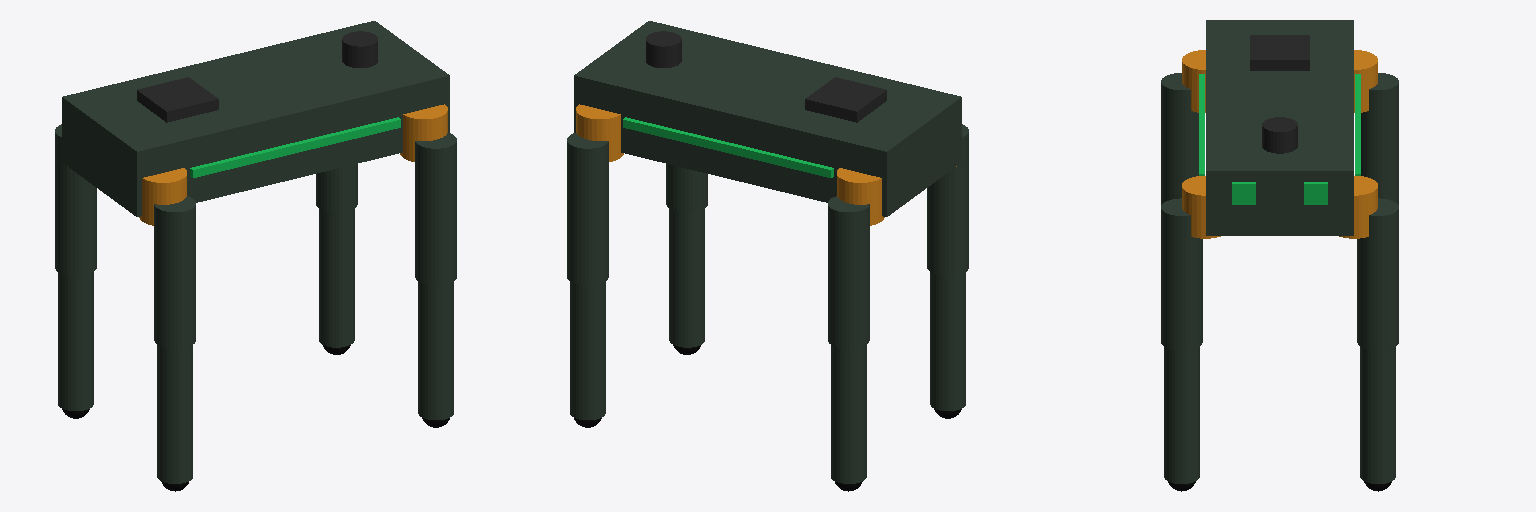
The robot description file, URDF, robot "cleanwalker":
<?xml version="1.0" encoding="UTF-8"?>
<!--
  CleanWalker Robotics — URDF Robot Model v1
  ============================================
  12-DOF quadruped (3 joints per leg: hip_yaw, hip_pitch, knee_pitch)
  with gripper arm attachment point.

  Reference: docs/design/robot-design-spec.md
  Convention: X-forward, Y-left, Z-up (ROS REP-103)

  Dimensions derived from spec:
    Body:   0.60m (L) x 0.25m (W) x 0.12m (H)
    Upper leg: 0.25m
    Lower leg: 0.25m
    Standing height to body center: ~0.50m
    Total mass: ~50 kg

  Colors:
    Body — dark matte olive-green (#3B4A3F)
    Accents — orange-amber for joint housings
    Feet — dark rubber black
-->
<robot name="cleanwalker">

  <!-- ============================== -->
  <!-- MATERIALS                       -->
  <!-- ============================== -->
  <material name="olive_green">
    <color rgba="0.231 0.290 0.247 1.0"/>  <!-- #3B4A3F -->
  </material>
  <material name="orange_amber">
    <color rgba="0.85 0.55 0.15 1.0"/>     <!-- accent color for joints -->
  </material>
  <material name="dark_grey">
    <color rgba="0.2 0.2 0.2 1.0"/>        <!-- joint housings -->
  </material>
  <material name="rubber_black">
    <color rgba="0.1 0.1 0.1 1.0"/>        <!-- foot pads -->
  </material>
  <material name="led_green">
    <color rgba="0.133 0.773 0.369 1.0"/>  <!-- #22c55e LED strips -->
  </material>

  <!-- ============================== -->
  <!-- BASE LINK (BODY)                -->
  <!-- ============================== -->
  <!--
    Main body: horizontally elongated rectangular box, slightly convex top.
    Simplified as a box for this first-pass URDF.
    Mass: 25 kg (half of total robot mass).
  -->
  <link name="base_link">
    <visual>
      <geometry>
        <box size="0.60 0.25 0.12"/>
      </geometry>
      <material name="olive_green"/>
    </visual>
    <collision>
      <geometry>
        <box size="0.60 0.25 0.12"/>
      </geometry>
    </collision>
    <inertial>
      <mass value="25.0"/>
      <origin xyz="0 0 0" rpy="0 0 0"/>
      <inertia ixx="0.1602" ixy="0" ixz="0"
               iyy="0.7800" iyz="0"
               izz="0.8802"/>
    </inertial>
  </link>

  <!-- LED strip left (cosmetic, fixed to body) -->
  <link name="led_strip_left">
    <visual>
      <geometry>
        <box size="0.40 0.01 0.015"/>
      </geometry>
      <material name="led_green"/>
    </visual>
  </link>
  <joint name="led_strip_left_joint" type="fixed">
    <parent link="base_link"/>
    <child link="led_strip_left"/>
    <origin xyz="0 0.131 0" rpy="0 0 0"/>
  </joint>

  <!-- LED strip right (cosmetic, fixed to body) -->
  <link name="led_strip_right">
    <visual>
      <geometry>
        <box size="0.40 0.01 0.015"/>
      </geometry>
      <material name="led_green"/>
    </visual>
  </link>
  <joint name="led_strip_right_joint" type="fixed">
    <parent link="base_link"/>
    <child link="led_strip_right"/>
    <origin xyz="0 -0.131 0" rpy="0 0 0"/>
  </joint>

  <!-- Front "eyes" — left camera window -->
  <link name="eye_left">
    <visual>
      <geometry>
        <box size="0.01 0.04 0.04"/>
      </geometry>
      <material name="led_green"/>
    </visual>
  </link>
  <joint name="eye_left_joint" type="fixed">
    <parent link="base_link"/>
    <child link="eye_left"/>
    <origin xyz="0.301 0.06 0.02" rpy="0 0 0"/>
  </joint>

  <!-- Front "eyes" — right camera window -->
  <link name="eye_right">
    <visual>
      <geometry>
        <box size="0.01 0.04 0.04"/>
      </geometry>
      <material name="led_green"/>
    </visual>
  </link>
  <joint name="eye_right_joint" type="fixed">
    <parent link="base_link"/>
    <child link="eye_right"/>
    <origin xyz="0.301 -0.06 0.02" rpy="0 0 0"/>
  </joint>

  <!-- ============================== -->
  <!-- GRIPPER ARM ATTACHMENT POINT    -->
  <!-- ============================== -->
  <!--
    Fixed mount point on top-front of body for the articulated arm.
    Arm itself is out of scope for v1; this provides the interface.
  -->
  <link name="arm_mount">
    <visual>
      <geometry>
        <cylinder radius="0.03" length="0.04"/>
      </geometry>
      <material name="dark_grey"/>
    </visual>
    <collision>
      <geometry>
        <cylinder radius="0.03" length="0.04"/>
      </geometry>
    </collision>
    <inertial>
      <mass value="0.5"/>
      <origin xyz="0 0 0" rpy="0 0 0"/>
      <inertia ixx="0.0001" ixy="0" ixz="0"
               iyy="0.0001" iyz="0"
               izz="0.0001"/>
    </inertial>
  </link>
  <joint name="arm_mount_joint" type="fixed">
    <parent link="base_link"/>
    <child link="arm_mount"/>
    <!-- Top-front of body: x = +0.20 (front), z = +0.08 (above body surface) -->
    <origin xyz="0.20 0 0.08" rpy="0 0 0"/>
  </joint>

  <!-- ============================== -->
  <!-- BAG FRAME ATTACHMENT POINT      -->
  <!-- ============================== -->
  <!--
    Fixed mount point on top-rear of body for the X-shaped scissor bag frame.
    Frame itself is out of scope for v1; this provides the interface.
  -->
  <link name="bag_frame_mount">
    <visual>
      <geometry>
        <box size="0.10 0.10 0.02"/>
      </geometry>
      <material name="dark_grey"/>
    </visual>
    <collision>
      <geometry>
        <box size="0.10 0.10 0.02"/>
      </geometry>
    </collision>
    <inertial>
      <mass value="0.5"/>
      <origin xyz="0 0 0" rpy="0 0 0"/>
      <inertia ixx="0.0001" ixy="0" ixz="0"
               iyy="0.0001" iyz="0"
               izz="0.0001"/>
    </inertial>
  </link>
  <joint name="bag_frame_mount_joint" type="fixed">
    <parent link="base_link"/>
    <child link="bag_frame_mount"/>
    <!-- Top-rear of body -->
    <origin xyz="-0.15 0 0.07" rpy="0 0 0"/>
  </joint>

  <!-- ============================================================ -->
  <!-- LEG MACRO — defined inline for each leg                       -->
  <!-- ============================================================ -->
  <!--
    Each leg has 3 revolute joints:
      1. hip_yaw   — rotates about Z (vertical), allows leg to swing laterally
      2. hip_pitch — rotates about Y (lateral), swings leg forward/backward
      3. knee_pitch — rotates about Y (lateral), bends the knee

    Leg link structure:
      base_link → hip_yaw_link → upper_leg → lower_leg → foot

    Mass distribution per leg (~5 kg):
      hip_yaw_link:  1.5 kg (actuator housing)
      upper_leg:     2.0 kg (thigh segment)
      lower_leg:     1.3 kg (shin segment)
      foot:          0.2 kg (rubber pad)
  -->

  <!-- ============================== -->
  <!-- FRONT-LEFT LEG (FL)             -->
  <!-- ============================== -->

  <!-- FL hip yaw joint — vertical rotation at body corner -->
  <joint name="fl_hip_yaw" type="revolute">
    <parent link="base_link"/>
    <child link="fl_hip_yaw_link"/>
    <origin xyz="0.25 0.125 -0.03" rpy="0 0 0"/>
    <axis xyz="0 0 1"/>
    <limit lower="-0.5" upper="0.5" effort="80" velocity="5.0"/>
    <dynamics damping="0.5" friction="0.1"/>
  </joint>

  <link name="fl_hip_yaw_link">
    <visual>
      <geometry>
        <cylinder radius="0.04" length="0.08"/>
      </geometry>
      <material name="orange_amber"/>
    </visual>
    <collision>
      <geometry>
        <cylinder radius="0.04" length="0.08"/>
      </geometry>
    </collision>
    <inertial>
      <mass value="1.5"/>
      <origin xyz="0 0 0" rpy="0 0 0"/>
      <inertia ixx="0.0014" ixy="0" ixz="0"
               iyy="0.0014" iyz="0"
               izz="0.0012"/>
    </inertial>
  </link>

  <!-- FL hip pitch joint — forward/backward leg swing -->
  <joint name="fl_hip_pitch" type="revolute">
    <parent link="fl_hip_yaw_link"/>
    <child link="fl_upper_leg"/>
    <origin xyz="0 0.04 0" rpy="0 0 0"/>
    <axis xyz="0 1 0"/>
    <limit lower="-1.57" upper="1.57" effort="120" velocity="5.0"/>
    <dynamics damping="0.5" friction="0.1"/>
  </joint>

  <link name="fl_upper_leg">
    <visual>
      <origin xyz="0 0 -0.125" rpy="0 0 0"/>
      <geometry>
        <cylinder radius="0.035" length="0.25"/>
      </geometry>
      <material name="olive_green"/>
    </visual>
    <collision>
      <origin xyz="0 0 -0.125" rpy="0 0 0"/>
      <geometry>
        <cylinder radius="0.035" length="0.25"/>
      </geometry>
    </collision>
    <inertial>
      <mass value="2.0"/>
      <origin xyz="0 0 -0.125" rpy="0 0 0"/>
      <inertia ixx="0.0110" ixy="0" ixz="0"
               iyy="0.0110" iyz="0"
               izz="0.0012"/>
    </inertial>
  </link>

  <!-- FL knee pitch joint -->
  <joint name="fl_knee_pitch" type="revolute">
    <parent link="fl_upper_leg"/>
    <child link="fl_lower_leg"/>
    <origin xyz="0 0 -0.25" rpy="0 0 0"/>
    <axis xyz="0 1 0"/>
    <!-- Front legs: knees bend forward (positive pitch) per mammalian stance -->
    <limit lower="-0.1" upper="2.6" effort="120" velocity="5.0"/>
    <dynamics damping="0.5" friction="0.1"/>
  </joint>

  <link name="fl_lower_leg">
    <visual>
      <origin xyz="0 0 -0.125" rpy="0 0 0"/>
      <geometry>
        <cylinder radius="0.03" length="0.25"/>
      </geometry>
      <material name="olive_green"/>
    </visual>
    <collision>
      <origin xyz="0 0 -0.125" rpy="0 0 0"/>
      <geometry>
        <cylinder radius="0.03" length="0.25"/>
      </geometry>
    </collision>
    <inertial>
      <mass value="1.3"/>
      <origin xyz="0 0 -0.125" rpy="0 0 0"/>
      <inertia ixx="0.0070" ixy="0" ixz="0"
               iyy="0.0070" iyz="0"
               izz="0.0006"/>
    </inertial>
  </link>

  <!-- FL foot — rubber pad (fixed to lower leg) -->
  <joint name="fl_foot_joint" type="fixed">
    <parent link="fl_lower_leg"/>
    <child link="fl_foot"/>
    <origin xyz="0 0 -0.25" rpy="0 0 0"/>
  </joint>

  <link name="fl_foot">
    <visual>
      <geometry>
        <sphere radius="0.025"/>
      </geometry>
      <material name="rubber_black"/>
    </visual>
    <collision>
      <geometry>
        <sphere radius="0.025"/>
      </geometry>
    </collision>
    <inertial>
      <mass value="0.2"/>
      <origin xyz="0 0 0" rpy="0 0 0"/>
      <inertia ixx="0.00004" ixy="0" ixz="0"
               iyy="0.00004" iyz="0"
               izz="0.00004"/>
    </inertial>
  </link>

  <!-- ============================== -->
  <!-- FRONT-RIGHT LEG (FR)            -->
  <!-- ============================== -->

  <!-- FR hip yaw joint -->
  <joint name="fr_hip_yaw" type="revolute">
    <parent link="base_link"/>
    <child link="fr_hip_yaw_link"/>
    <origin xyz="0.25 -0.125 -0.03" rpy="0 0 0"/>
    <axis xyz="0 0 1"/>
    <limit lower="-0.5" upper="0.5" effort="80" velocity="5.0"/>
    <dynamics damping="0.5" friction="0.1"/>
  </joint>

  <link name="fr_hip_yaw_link">
    <visual>
      <geometry>
        <cylinder radius="0.04" length="0.08"/>
      </geometry>
      <material name="orange_amber"/>
    </visual>
    <collision>
      <geometry>
        <cylinder radius="0.04" length="0.08"/>
      </geometry>
    </collision>
    <inertial>
      <mass value="1.5"/>
      <origin xyz="0 0 0" rpy="0 0 0"/>
      <inertia ixx="0.0014" ixy="0" ixz="0"
               iyy="0.0014" iyz="0"
               izz="0.0012"/>
    </inertial>
  </link>

  <!-- FR hip pitch joint -->
  <joint name="fr_hip_pitch" type="revolute">
    <parent link="fr_hip_yaw_link"/>
    <child link="fr_upper_leg"/>
    <origin xyz="0 -0.04 0" rpy="0 0 0"/>
    <axis xyz="0 1 0"/>
    <limit lower="-1.57" upper="1.57" effort="120" velocity="5.0"/>
    <dynamics damping="0.5" friction="0.1"/>
  </joint>

  <link name="fr_upper_leg">
    <visual>
      <origin xyz="0 0 -0.125" rpy="0 0 0"/>
      <geometry>
        <cylinder radius="0.035" length="0.25"/>
      </geometry>
      <material name="olive_green"/>
    </visual>
    <collision>
      <origin xyz="0 0 -0.125" rpy="0 0 0"/>
      <geometry>
        <cylinder radius="0.035" length="0.25"/>
      </geometry>
    </collision>
    <inertial>
      <mass value="2.0"/>
      <origin xyz="0 0 -0.125" rpy="0 0 0"/>
      <inertia ixx="0.0110" ixy="0" ixz="0"
               iyy="0.0110" iyz="0"
               izz="0.0012"/>
    </inertial>
  </link>

  <!-- FR knee pitch joint -->
  <joint name="fr_knee_pitch" type="revolute">
    <parent link="fr_upper_leg"/>
    <child link="fr_lower_leg"/>
    <origin xyz="0 0 -0.25" rpy="0 0 0"/>
    <axis xyz="0 1 0"/>
    <limit lower="-0.1" upper="2.6" effort="120" velocity="5.0"/>
    <dynamics damping="0.5" friction="0.1"/>
  </joint>

  <link name="fr_lower_leg">
    <visual>
      <origin xyz="0 0 -0.125" rpy="0 0 0"/>
      <geometry>
        <cylinder radius="0.03" length="0.25"/>
      </geometry>
      <material name="olive_green"/>
    </visual>
    <collision>
      <origin xyz="0 0 -0.125" rpy="0 0 0"/>
      <geometry>
        <cylinder radius="0.03" length="0.25"/>
      </geometry>
    </collision>
    <inertial>
      <mass value="1.3"/>
      <origin xyz="0 0 -0.125" rpy="0 0 0"/>
      <inertia ixx="0.0070" ixy="0" ixz="0"
               iyy="0.0070" iyz="0"
               izz="0.0006"/>
    </inertial>
  </link>

  <!-- FR foot -->
  <joint name="fr_foot_joint" type="fixed">
    <parent link="fr_lower_leg"/>
    <child link="fr_foot"/>
    <origin xyz="0 0 -0.25" rpy="0 0 0"/>
  </joint>

  <link name="fr_foot">
    <visual>
      <geometry>
        <sphere radius="0.025"/>
      </geometry>
      <material name="rubber_black"/>
    </visual>
    <collision>
      <geometry>
        <sphere radius="0.025"/>
      </geometry>
    </collision>
    <inertial>
      <mass value="0.2"/>
      <origin xyz="0 0 0" rpy="0 0 0"/>
      <inertia ixx="0.00004" ixy="0" ixz="0"
               iyy="0.00004" iyz="0"
               izz="0.00004"/>
    </inertial>
  </link>

  <!-- ============================== -->
  <!-- REAR-LEFT LEG (RL)              -->
  <!-- ============================== -->

  <!-- RL hip yaw joint -->
  <joint name="rl_hip_yaw" type="revolute">
    <parent link="base_link"/>
    <child link="rl_hip_yaw_link"/>
    <origin xyz="-0.25 0.125 -0.03" rpy="0 0 0"/>
    <axis xyz="0 0 1"/>
    <limit lower="-0.5" upper="0.5" effort="80" velocity="5.0"/>
    <dynamics damping="0.5" friction="0.1"/>
  </joint>

  <link name="rl_hip_yaw_link">
    <visual>
      <geometry>
        <cylinder radius="0.04" length="0.08"/>
      </geometry>
      <material name="orange_amber"/>
    </visual>
    <collision>
      <geometry>
        <cylinder radius="0.04" length="0.08"/>
      </geometry>
    </collision>
    <inertial>
      <mass value="1.5"/>
      <origin xyz="0 0 0" rpy="0 0 0"/>
      <inertia ixx="0.0014" ixy="0" ixz="0"
               iyy="0.0014" iyz="0"
               izz="0.0012"/>
    </inertial>
  </link>

  <!-- RL hip pitch joint -->
  <joint name="rl_hip_pitch" type="revolute">
    <parent link="rl_hip_yaw_link"/>
    <child link="rl_upper_leg"/>
    <origin xyz="0 0.04 0" rpy="0 0 0"/>
    <axis xyz="0 1 0"/>
    <limit lower="-1.57" upper="1.57" effort="120" velocity="5.0"/>
    <dynamics damping="0.5" friction="0.1"/>
  </joint>

  <link name="rl_upper_leg">
    <visual>
      <origin xyz="0 0 -0.125" rpy="0 0 0"/>
      <geometry>
        <cylinder radius="0.035" length="0.25"/>
      </geometry>
      <material name="olive_green"/>
    </visual>
    <collision>
      <origin xyz="0 0 -0.125" rpy="0 0 0"/>
      <geometry>
        <cylinder radius="0.035" length="0.25"/>
      </geometry>
    </collision>
    <inertial>
      <mass value="2.0"/>
      <origin xyz="0 0 -0.125" rpy="0 0 0"/>
      <inertia ixx="0.0110" ixy="0" ixz="0"
               iyy="0.0110" iyz="0"
               izz="0.0012"/>
    </inertial>
  </link>

  <!-- RL knee pitch joint — rear legs: knees bend backward (negative pitch) -->
  <joint name="rl_knee_pitch" type="revolute">
    <parent link="rl_upper_leg"/>
    <child link="rl_lower_leg"/>
    <origin xyz="0 0 -0.25" rpy="0 0 0"/>
    <axis xyz="0 1 0"/>
    <!-- Rear legs: knees bend backward per mammalian stance -->
    <limit lower="-2.6" upper="0.1" effort="120" velocity="5.0"/>
    <dynamics damping="0.5" friction="0.1"/>
  </joint>

  <link name="rl_lower_leg">
    <visual>
      <origin xyz="0 0 -0.125" rpy="0 0 0"/>
      <geometry>
        <cylinder radius="0.03" length="0.25"/>
      </geometry>
      <material name="olive_green"/>
    </visual>
    <collision>
      <origin xyz="0 0 -0.125" rpy="0 0 0"/>
      <geometry>
        <cylinder radius="0.03" length="0.25"/>
      </geometry>
    </collision>
    <inertial>
      <mass value="1.3"/>
      <origin xyz="0 0 -0.125" rpy="0 0 0"/>
      <inertia ixx="0.0070" ixy="0" ixz="0"
               iyy="0.0070" iyz="0"
               izz="0.0006"/>
    </inertial>
  </link>

  <!-- RL foot -->
  <joint name="rl_foot_joint" type="fixed">
    <parent link="rl_lower_leg"/>
    <child link="rl_foot"/>
    <origin xyz="0 0 -0.25" rpy="0 0 0"/>
  </joint>

  <link name="rl_foot">
    <visual>
      <geometry>
        <sphere radius="0.025"/>
      </geometry>
      <material name="rubber_black"/>
    </visual>
    <collision>
      <geometry>
        <sphere radius="0.025"/>
      </geometry>
    </collision>
    <inertial>
      <mass value="0.2"/>
      <origin xyz="0 0 0" rpy="0 0 0"/>
      <inertia ixx="0.00004" ixy="0" ixz="0"
               iyy="0.00004" iyz="0"
               izz="0.00004"/>
    </inertial>
  </link>

  <!-- ============================== -->
  <!-- REAR-RIGHT LEG (RR)             -->
  <!-- ============================== -->

  <!-- RR hip yaw joint -->
  <joint name="rr_hip_yaw" type="revolute">
    <parent link="base_link"/>
    <child link="rr_hip_yaw_link"/>
    <origin xyz="-0.25 -0.125 -0.03" rpy="0 0 0"/>
    <axis xyz="0 0 1"/>
    <limit lower="-0.5" upper="0.5" effort="80" velocity="5.0"/>
    <dynamics damping="0.5" friction="0.1"/>
  </joint>

  <link name="rr_hip_yaw_link">
    <visual>
      <geometry>
        <cylinder radius="0.04" length="0.08"/>
      </geometry>
      <material name="orange_amber"/>
    </visual>
    <collision>
      <geometry>
        <cylinder radius="0.04" length="0.08"/>
      </geometry>
    </collision>
    <inertial>
      <mass value="1.5"/>
      <origin xyz="0 0 0" rpy="0 0 0"/>
      <inertia ixx="0.0014" ixy="0" ixz="0"
               iyy="0.0014" iyz="0"
               izz="0.0012"/>
    </inertial>
  </link>

  <!-- RR hip pitch joint -->
  <joint name="rr_hip_pitch" type="revolute">
    <parent link="rr_hip_yaw_link"/>
    <child link="rr_upper_leg"/>
    <origin xyz="0 -0.04 0" rpy="0 0 0"/>
    <axis xyz="0 1 0"/>
    <limit lower="-1.57" upper="1.57" effort="120" velocity="5.0"/>
    <dynamics damping="0.5" friction="0.1"/>
  </joint>

  <link name="rr_upper_leg">
    <visual>
      <origin xyz="0 0 -0.125" rpy="0 0 0"/>
      <geometry>
        <cylinder radius="0.035" length="0.25"/>
      </geometry>
      <material name="olive_green"/>
    </visual>
    <collision>
      <origin xyz="0 0 -0.125" rpy="0 0 0"/>
      <geometry>
        <cylinder radius="0.035" length="0.25"/>
      </geometry>
    </collision>
    <inertial>
      <mass value="2.0"/>
      <origin xyz="0 0 -0.125" rpy="0 0 0"/>
      <inertia ixx="0.0110" ixy="0" ixz="0"
               iyy="0.0110" iyz="0"
               izz="0.0012"/>
    </inertial>
  </link>

  <!-- RR knee pitch joint — rear legs: knees bend backward -->
  <joint name="rr_knee_pitch" type="revolute">
    <parent link="rr_upper_leg"/>
    <child link="rr_lower_leg"/>
    <origin xyz="0 0 -0.25" rpy="0 0 0"/>
    <axis xyz="0 1 0"/>
    <limit lower="-2.6" upper="0.1" effort="120" velocity="5.0"/>
    <dynamics damping="0.5" friction="0.1"/>
  </joint>

  <link name="rr_lower_leg">
    <visual>
      <origin xyz="0 0 -0.125" rpy="0 0 0"/>
      <geometry>
        <cylinder radius="0.03" length="0.25"/>
      </geometry>
      <material name="olive_green"/>
    </visual>
    <collision>
      <origin xyz="0 0 -0.125" rpy="0 0 0"/>
      <geometry>
        <cylinder radius="0.03" length="0.25"/>
      </geometry>
    </collision>
    <inertial>
      <mass value="1.3"/>
      <origin xyz="0 0 -0.125" rpy="0 0 0"/>
      <inertia ixx="0.0070" ixy="0" ixz="0"
               iyy="0.0070" iyz="0"
               izz="0.0006"/>
    </inertial>
  </link>

  <!-- RR foot -->
  <joint name="rr_foot_joint" type="fixed">
    <parent link="rr_lower_leg"/>
    <child link="rr_foot"/>
    <origin xyz="0 0 -0.25" rpy="0 0 0"/>
  </joint>

  <link name="rr_foot">
    <visual>
      <geometry>
        <sphere radius="0.025"/>
      </geometry>
      <material name="rubber_black"/>
    </visual>
    <collision>
      <geometry>
        <sphere radius="0.025"/>
      </geometry>
    </collision>
    <inertial>
      <mass value="0.2"/>
      <origin xyz="0 0 0" rpy="0 0 0"/>
      <inertia ixx="0.00004" ixy="0" ixz="0"
               iyy="0.00004" iyz="0"
               izz="0.00004"/>
    </inertial>
  </link>

  <!-- ============================== -->
  <!-- GAZEBO-SPECIFIC PROPERTIES      -->
  <!-- ============================== -->
  <!--
    Gazebo material colors (Gazebo ignores URDF <material> tags,
    so we set colors via <gazebo> extensions).
  -->

  <!-- Body -->
  <gazebo reference="base_link">
    <material>Gazebo/DarkGrey</material>
    <mu1>0.8</mu1>
    <mu2>0.8</mu2>
  </gazebo>

  <!-- LED strips -->
  <gazebo reference="led_strip_left">
    <material>Gazebo/Green</material>
  </gazebo>
  <gazebo reference="led_strip_right">
    <material>Gazebo/Green</material>
  </gazebo>

  <!-- Eyes -->
  <gazebo reference="eye_left">
    <material>Gazebo/Green</material>
  </gazebo>
  <gazebo reference="eye_right">
    <material>Gazebo/Green</material>
  </gazebo>

  <!-- Arm mount -->
  <gazebo reference="arm_mount">
    <material>Gazebo/FlatBlack</material>
  </gazebo>

  <!-- Bag frame mount -->
  <gazebo reference="bag_frame_mount">
    <material>Gazebo/FlatBlack</material>
  </gazebo>

  <!-- FL leg -->
  <gazebo reference="fl_hip_yaw_link">
    <material>Gazebo/Orange</material>
  </gazebo>
  <gazebo reference="fl_upper_leg">
    <material>Gazebo/DarkGrey</material>
  </gazebo>
  <gazebo reference="fl_lower_leg">
    <material>Gazebo/DarkGrey</material>
  </gazebo>
  <gazebo reference="fl_foot">
    <material>Gazebo/FlatBlack</material>
    <mu1>1.0</mu1>
    <mu2>1.0</mu2>
    <kp>1e6</kp>
    <kd>1e2</kd>
  </gazebo>

  <!-- FR leg -->
  <gazebo reference="fr_hip_yaw_link">
    <material>Gazebo/Orange</material>
  </gazebo>
  <gazebo reference="fr_upper_leg">
    <material>Gazebo/DarkGrey</material>
  </gazebo>
  <gazebo reference="fr_lower_leg">
    <material>Gazebo/DarkGrey</material>
  </gazebo>
  <gazebo reference="fr_foot">
    <material>Gazebo/FlatBlack</material>
    <mu1>1.0</mu1>
    <mu2>1.0</mu2>
    <kp>1e6</kp>
    <kd>1e2</kd>
  </gazebo>

  <!-- RL leg -->
  <gazebo reference="rl_hip_yaw_link">
    <material>Gazebo/Orange</material>
  </gazebo>
  <gazebo reference="rl_upper_leg">
    <material>Gazebo/DarkGrey</material>
  </gazebo>
  <gazebo reference="rl_lower_leg">
    <material>Gazebo/DarkGrey</material>
  </gazebo>
  <gazebo reference="rl_foot">
    <material>Gazebo/FlatBlack</material>
    <mu1>1.0</mu1>
    <mu2>1.0</mu2>
    <kp>1e6</kp>
    <kd>1e2</kd>
  </gazebo>

  <!-- RR leg -->
  <gazebo reference="rr_hip_yaw_link">
    <material>Gazebo/Orange</material>
  </gazebo>
  <gazebo reference="rr_upper_leg">
    <material>Gazebo/DarkGrey</material>
  </gazebo>
  <gazebo reference="rr_lower_leg">
    <material>Gazebo/DarkGrey</material>
  </gazebo>
  <gazebo reference="rr_foot">
    <material>Gazebo/FlatBlack</material>
    <mu1>1.0</mu1>
    <mu2>1.0</mu2>
    <kp>1e6</kp>
    <kd>1e2</kd>
  </gazebo>

</robot>

--- What the picture shows (computed from the rendered views, not written in the file) ---
Views: 3 orthographic renders of the robot side by side, from view 1: azimuth 30°, elevation 25°; view 2: azimuth 150°, elevation 25°; view 3: azimuth 270°, elevation 25°.
Robot: cleanwalker — 23 links, 22 joints (12 revolute, 10 fixed); root link base_link; default pose: every joint at zero.
Links seen in each view (by area): view 1: base_link, rr_upper_leg, fr_upper_leg, fl_lower_leg, fr_lower_leg, rl_lower_leg, rr_lower_leg, rl_upper_leg, bag_frame_mount, led_strip_right, fl_upper_leg, rr_hip_yaw_link (+2 smaller); view 2: base_link, rl_upper_leg, fl_upper_leg, fr_lower_leg, fl_lower_leg, rr_lower_leg, rl_lower_leg, rr_upper_leg, bag_frame_mount, led_strip_left, fr_upper_leg, rl_hip_yaw_link (+2 smaller); view 3: base_link, fl_upper_leg, fr_upper_leg, fl_lower_leg, fr_lower_leg, rl_upper_leg, rr_upper_leg, bag_frame_mount, fl_hip_yaw_link, fr_hip_yaw_link, arm_mount, rl_hip_yaw_link (+5 smaller).
Boxes of the visible links, left/top/right/bottom form: base_link: left=62, top=21, right=449, bottom=216; rr_upper_leg: left=154, top=196, right=195, bottom=348; fr_upper_leg: left=415, top=133, right=456, bottom=284; fl_lower_leg: left=319, top=208, right=354, bottom=347; fr_lower_leg: left=418, top=281, right=453, bottom=419; rl_lower_leg: left=58, top=272, right=93, bottom=410; rr_lower_leg: left=157, top=345, right=192, bottom=483; rl_upper_leg: left=55, top=124, right=96, bottom=275; bag_frame_mount: left=137, top=77, right=218, bottom=122; led_strip_right: left=190, top=117, right=400, bottom=177; fl_upper_leg: left=316, top=164, right=357, bottom=212; rr_hip_yaw_link: left=139, top=168, right=186, bottom=225; base_link: left=574, top=21, right=961, bottom=216; rl_upper_leg: left=828, top=196, right=869, bottom=348; fl_upper_leg: left=567, top=133, right=608, bottom=284; fr_lower_leg: left=669, top=208, right=704, bottom=347; fl_lower_leg: left=570, top=281, right=605, bottom=419; rr_lower_leg: left=930, top=272, right=965, bottom=410; rl_lower_leg: left=831, top=345, right=866, bottom=483; rr_upper_leg: left=927, top=124, right=968, bottom=275; bag_frame_mount: left=805, top=77, right=886, bottom=122; led_strip_left: left=623, top=117, right=833, bottom=177; fr_upper_leg: left=666, top=164, right=707, bottom=212; rl_hip_yaw_link: left=837, top=168, right=884, bottom=225; base_link: left=1206, top=20, right=1353, bottom=235; fl_upper_leg: left=1357, top=198, right=1398, bottom=350; fr_upper_leg: left=1161, top=198, right=1202, bottom=350; fl_lower_leg: left=1360, top=347, right=1395, bottom=483; fr_lower_leg: left=1164, top=347, right=1199, bottom=483; rl_upper_leg: left=1361, top=73, right=1398, bottom=204; rr_upper_leg: left=1161, top=73, right=1198, bottom=204; bag_frame_mount: left=1250, top=35, right=1309, bottom=70; fl_hip_yaw_link: left=1339, top=176, right=1377, bottom=238; fr_hip_yaw_link: left=1182, top=176, right=1220, bottom=238; arm_mount: left=1262, top=117, right=1297, bottom=153; rl_hip_yaw_link: left=1354, top=50, right=1377, bottom=112.
Bounding box of the posed robot: 0.606 × 0.4 × 0.655 m (x, y, z).
Geometry: primitives only (box / cylinder / sphere), no mesh files.